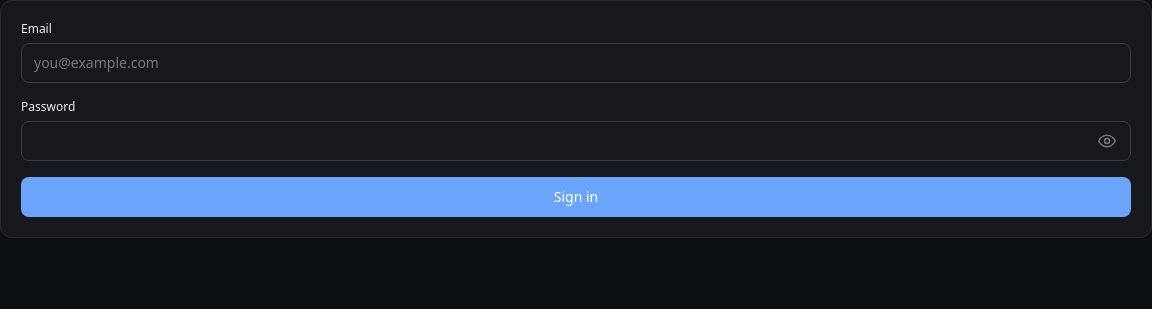
Scenario: LoginForm › keeps the email after a failed attempt
In the field labelled "Email": (576, 63) [21,43,1131,83], type "dana@acme.test"
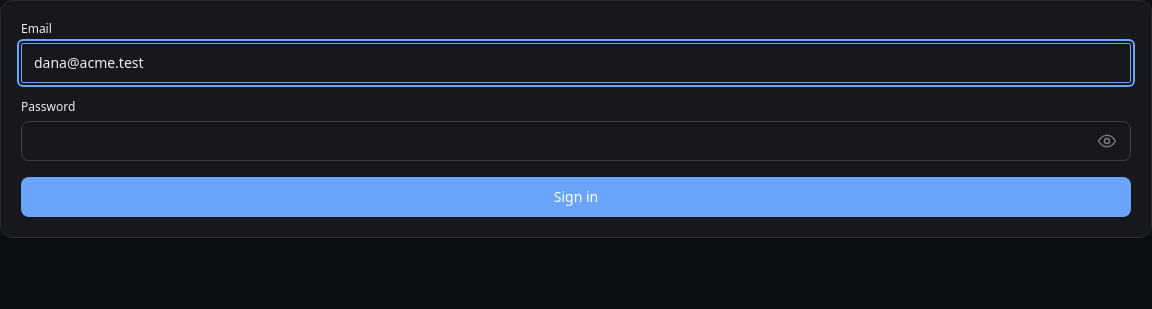
In the password field labelled "Password": (576, 141) [21,121,1131,161], type "correct horse battery staple"
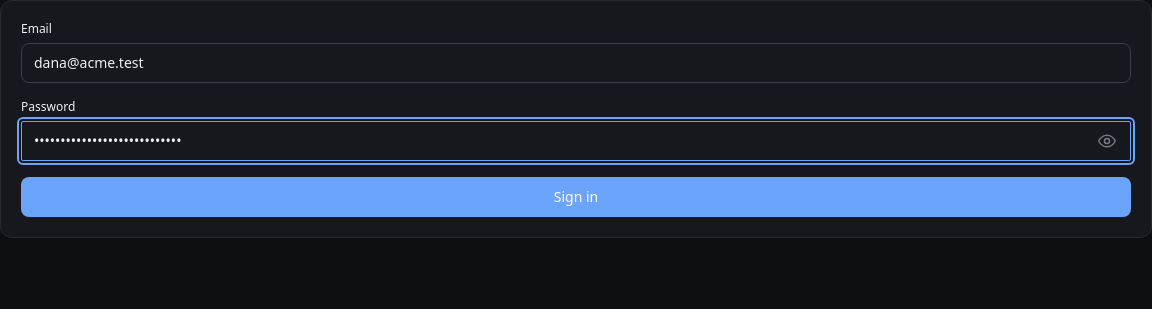
Click the button "Sign in": (576, 197) [21,177,1131,217]
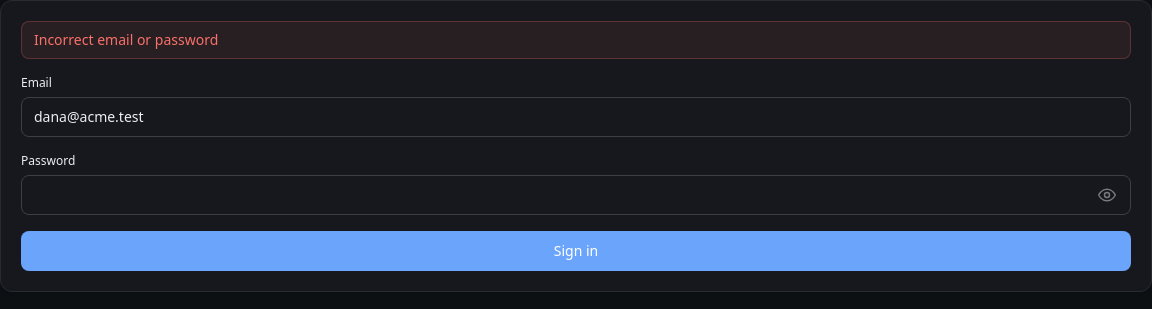
expect the text "Incorrect email or password" is shown: met, box [21,21,1131,59]
